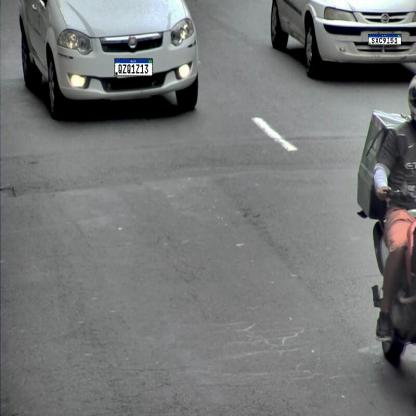PlacaM: (114, 58, 153, 76), (368, 34, 402, 45)
